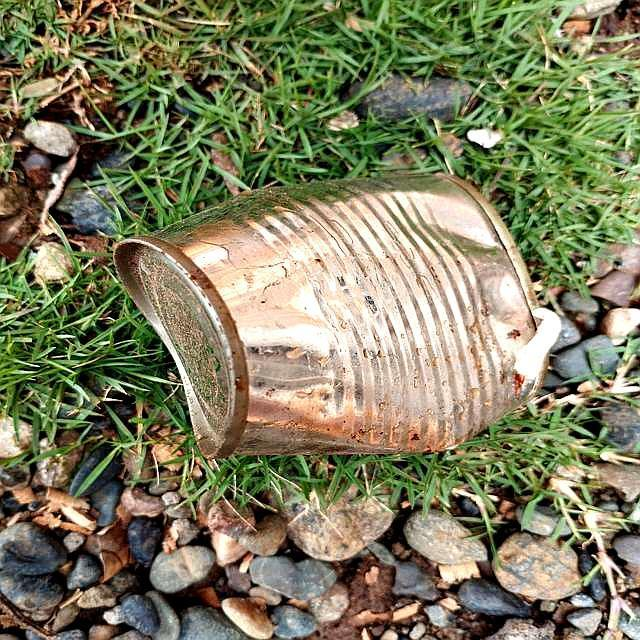Non-biodegradable: (112, 170, 563, 464)
